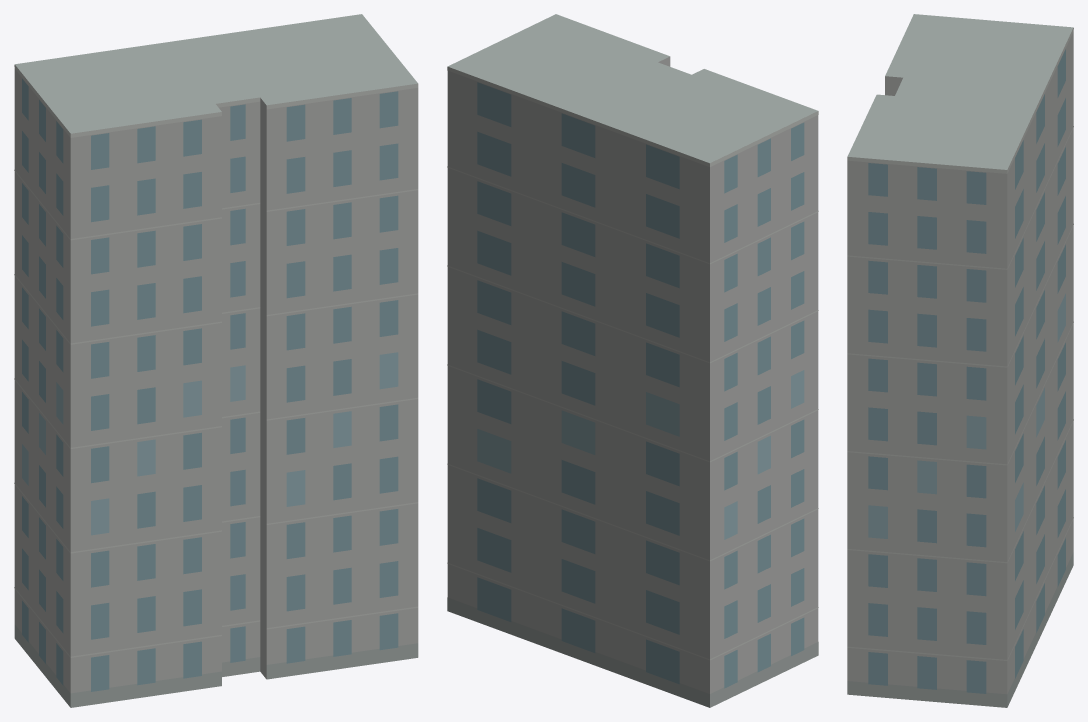
The model's file is survey-upis-33042124.glb.
The picture shows the model from 3 angles, left to right: view 1: azimuth 30°, elevation 25°; view 2: azimuth 150°, elevation 25°; view 3: azimuth 270°, elevation 25°; orthographic projection. The views are drawn at different scales.
Parts seen in each view (by area): view 1: survey-upis-33042124.tmp; view 2: survey-upis-33042124.tmp; view 3: survey-upis-33042124.tmp.
Part boxes in pixels (box(x1,y1,x2,y2)): survey-upis-33042124.tmp: box(14, 14, 418, 707); survey-upis-33042124.tmp: box(447, 14, 818, 707); survey-upis-33042124.tmp: box(847, 14, 1073, 707).
Bounding box in the file's own units: 20.89 × 33.55 × 12.81.
